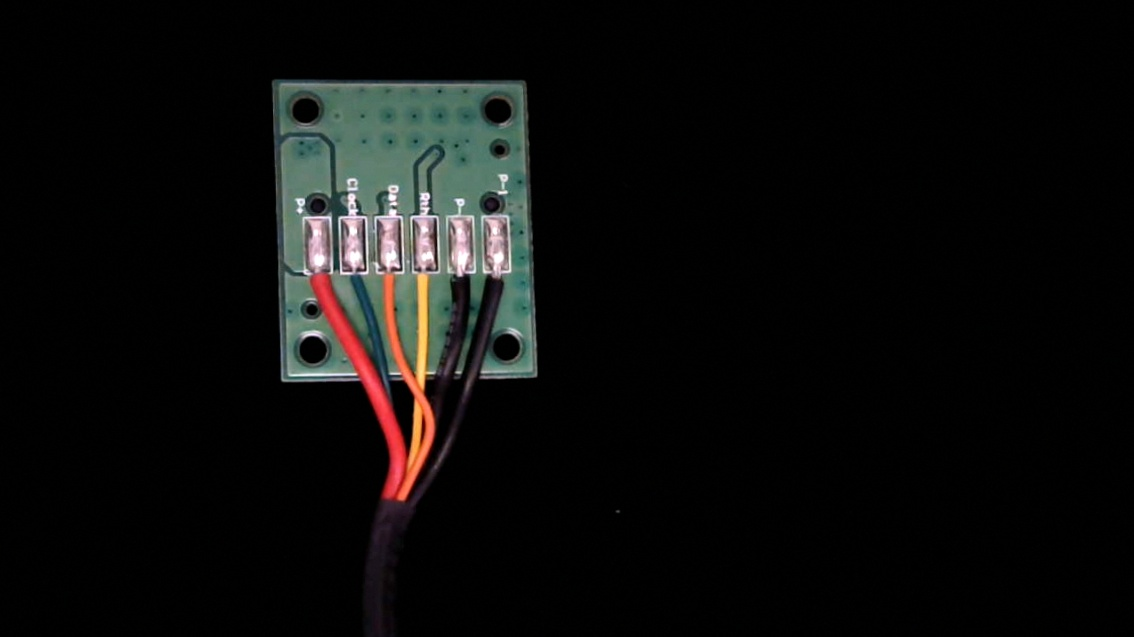Black: (445, 258, 477, 312)
Black1: (481, 258, 513, 313)
Green: (337, 259, 370, 303)
Orange: (373, 258, 403, 306)
Red: (301, 258, 333, 302)
Yellow: (407, 258, 443, 308)
